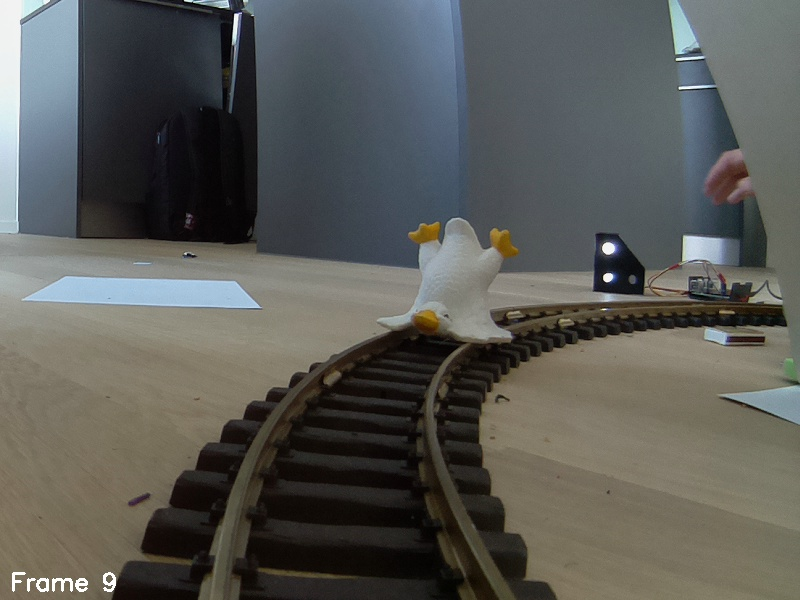Ente: (375, 211, 517, 358)
Fahrt: (589, 229, 646, 298)
